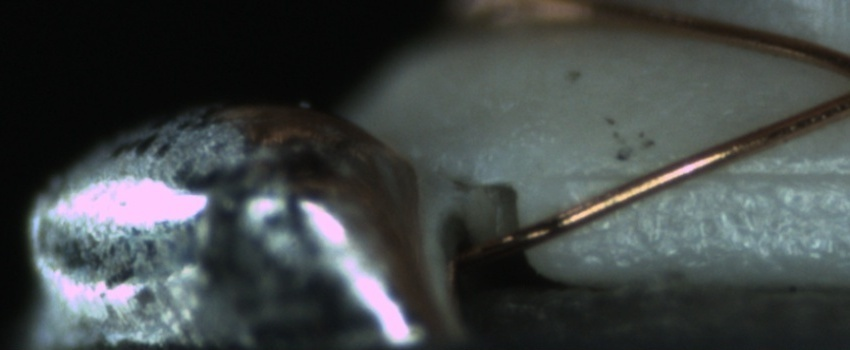CL: (835, 53, 850, 113)
DL: (555, 149, 849, 204)
